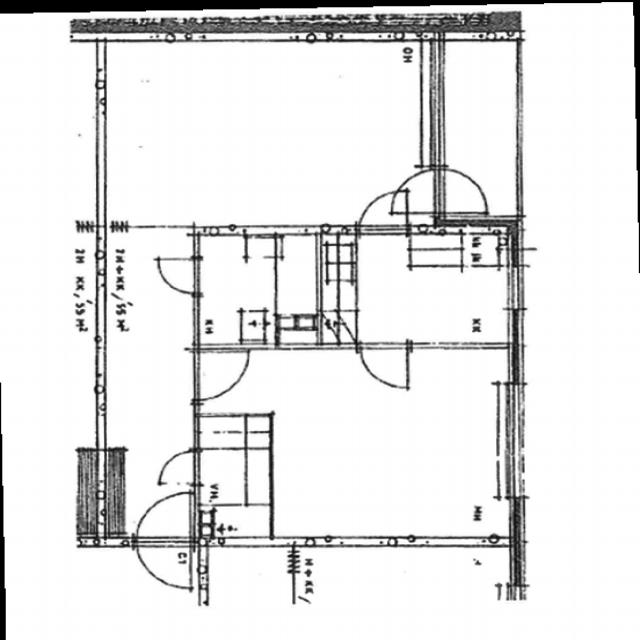door: (137, 536, 190, 595), (137, 489, 190, 547), (193, 352, 251, 400), (430, 169, 492, 213), (382, 169, 444, 213), (154, 258, 200, 294), (156, 451, 199, 485)
